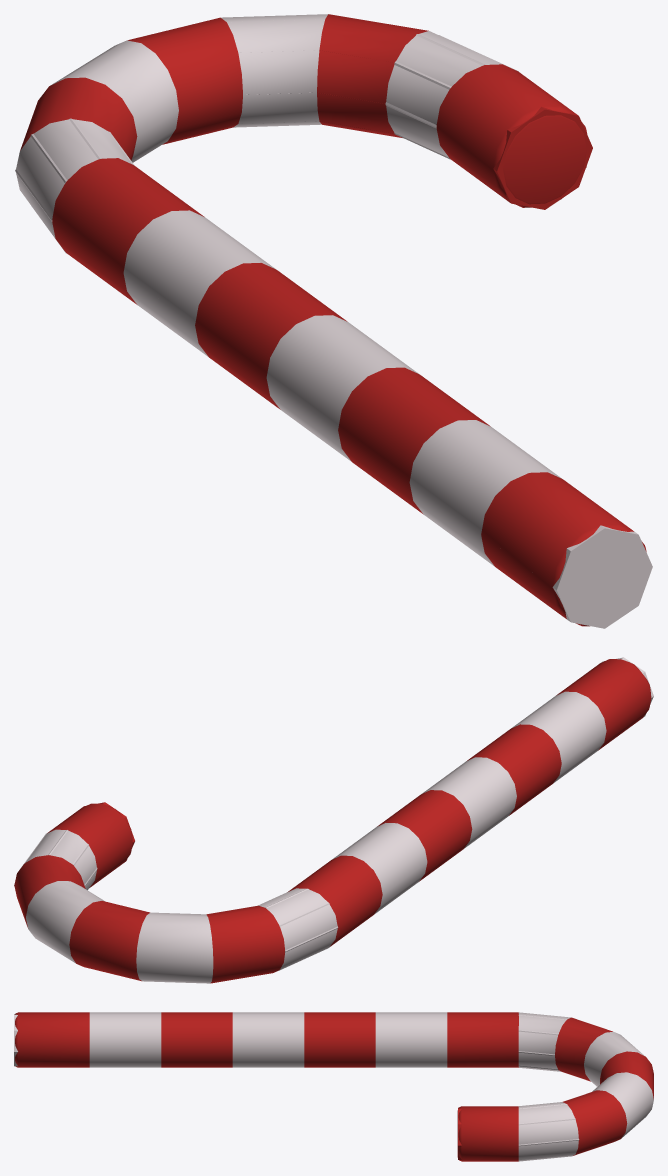
File: CandyCane.fbx
3 renders of one model, top to bottom at view 1: azimuth 30°, elevation 25°; view 2: azimuth 150°, elevation 25°; view 3: azimuth 270°, elevation 25°, orthographic. The views are drawn at different scales.
Visible parts, largest first — view 1: CandyCane, CCcoll 1, CCcoll 9, CCcoll 7; view 2: CandyCane, CCcoll 2; view 3: CandyCane, CCcoll 7, CCcoll 2.
Boxes of the visible parts, x1,y1,x2,y2 form: CandyCane: (16, 14, 646, 626); CCcoll 1: (552, 525, 652, 628); CCcoll 9: (493, 106, 592, 209); CCcoll 7: (385, 34, 518, 159); CandyCane: (14, 659, 651, 983); CCcoll 2: (258, 888, 338, 970); CandyCane: (15, 1012, 653, 1161); CCcoll 7: (518, 1104, 579, 1159); CCcoll 2: (518, 1014, 566, 1070).
Bounding box in the file's own units: 218 × 43.91 × 503.
